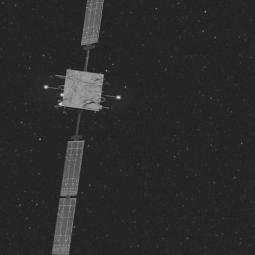smart_1: (44, 12, 126, 202)
